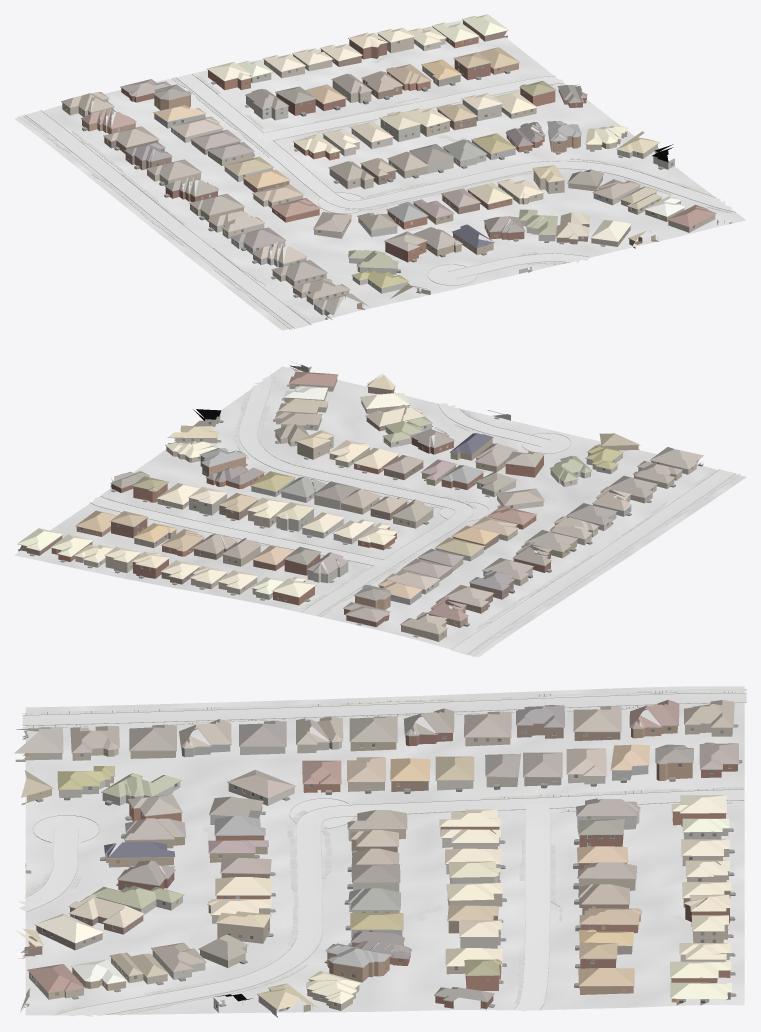
3 views of the same model, one above another, from view 1: azimuth 30°, elevation 25°; view 2: azimuth 150°, elevation 25°; view 3: azimuth 270°, elevation 25° (orthographic). The views are drawn at different scales.
Visible parts, largest first — view 1: ground, roof, concrete, wall, wall_stucco, detail, walk, curb, wall_stone, glass; view 2: roof, ground, concrete, wall, wall_stucco, detail, walk, curb, wall_stone, glass; view 3: ground, roof, concrete, wall, wall_stucco, walk, detail, curb, wall_stone, glass.
Part boxes in pixels (x1=…): ground: x1=14, y1=20, x2=746, y2=330; roof: x1=61, y1=14, x2=716, y2=315; concrete: x1=25, y1=74, x2=732, y2=328; wall: x1=62, y1=20, x2=718, y2=286; wall_stucco: x1=147, y1=30, x2=658, y2=319; detail: x1=61, y1=19, x2=732, y2=319; walk: x1=18, y1=54, x2=731, y2=329; curb: x1=22, y1=74, x2=735, y2=329; wall_stone: x1=231, y1=96, x2=674, y2=293; glass: x1=81, y1=30, x2=694, y2=309; roof: x1=17, y1=371, x2=703, y2=634; ground: x1=14, y1=366, x2=746, y2=657; concrete: x1=90, y1=376, x2=735, y2=654; wall: x1=18, y1=364, x2=656, y2=641; wall_stucco: x1=75, y1=414, x2=702, y2=604; detail: x1=17, y1=363, x2=703, y2=637; walk: x1=108, y1=375, x2=739, y2=656; curb: x1=90, y1=373, x2=740, y2=654; wall_stone: x1=193, y1=414, x2=622, y2=583; glass: x1=22, y1=398, x2=692, y2=626; ground: x1=25, y1=686, x2=744, y2=1015; roof: x1=15, y1=699, x2=739, y2=1009; concrete: x1=18, y1=693, x2=746, y2=1016; wall: x1=19, y1=724, x2=737, y2=1011; wall_stucco: x1=15, y1=737, x2=729, y2=1017; walk: x1=21, y1=689, x2=746, y2=1014; detail: x1=14, y1=704, x2=742, y2=1009; curb: x1=22, y1=692, x2=746, y2=1015; wall_stone: x1=59, y1=747, x2=639, y2=1012; glass: x1=32, y1=727, x2=723, y2=1008.
Bounding box in the file's own units: 255 × 19.42 × 255.
